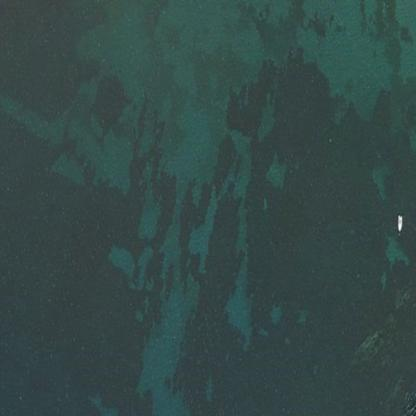ship: (386, 209, 409, 238)
